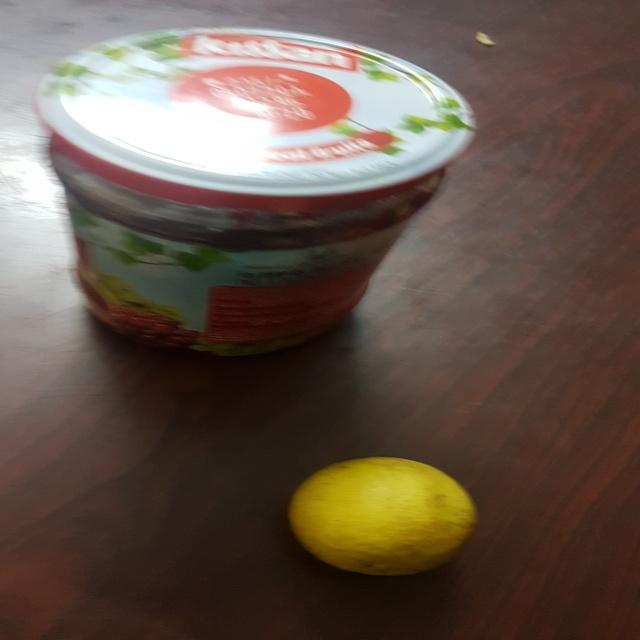lemon: (285, 451, 487, 578)
